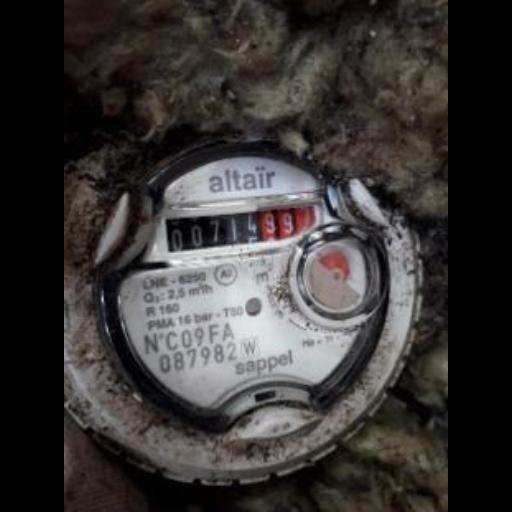0: (165, 218, 190, 253), (187, 217, 208, 252)
1: (224, 214, 244, 245)
4: (241, 212, 262, 243)
7: (205, 215, 228, 248)
9: (277, 207, 297, 240), (259, 210, 279, 241)
border_water_meter_number: (158, 195, 326, 258)
